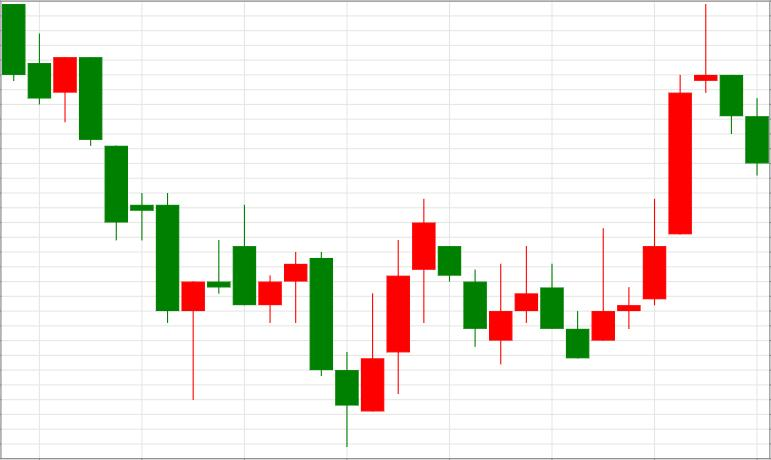hammer_rise: (79, 57, 205, 399)
three_white_soldiers_rise: (284, 199, 436, 447)
